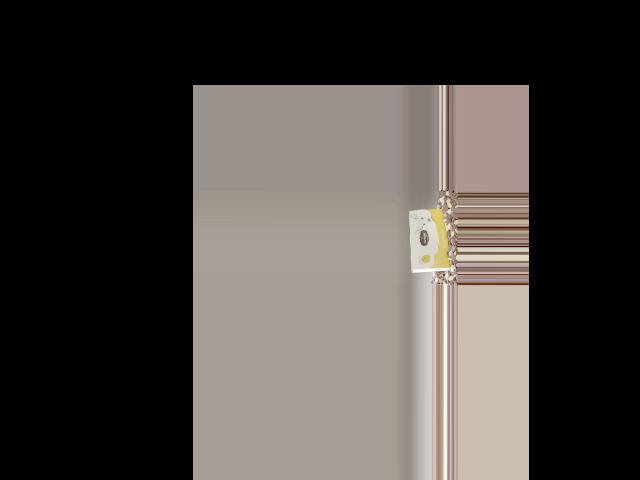chocolate: (407, 205, 452, 275)
